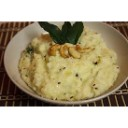venpongal: (22, 31, 118, 96)
